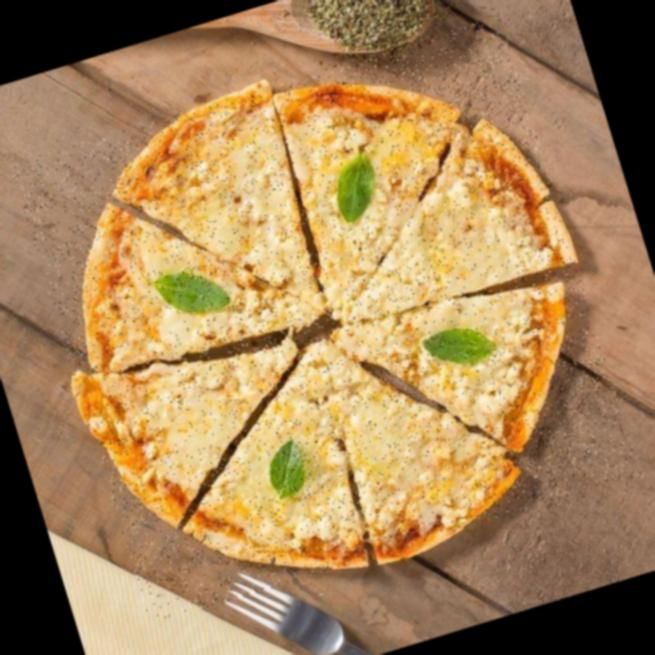Basil: (152, 257, 238, 328), (321, 146, 395, 225), (424, 313, 500, 378), (265, 437, 316, 505)
Pizza: (10, 15, 640, 624)
